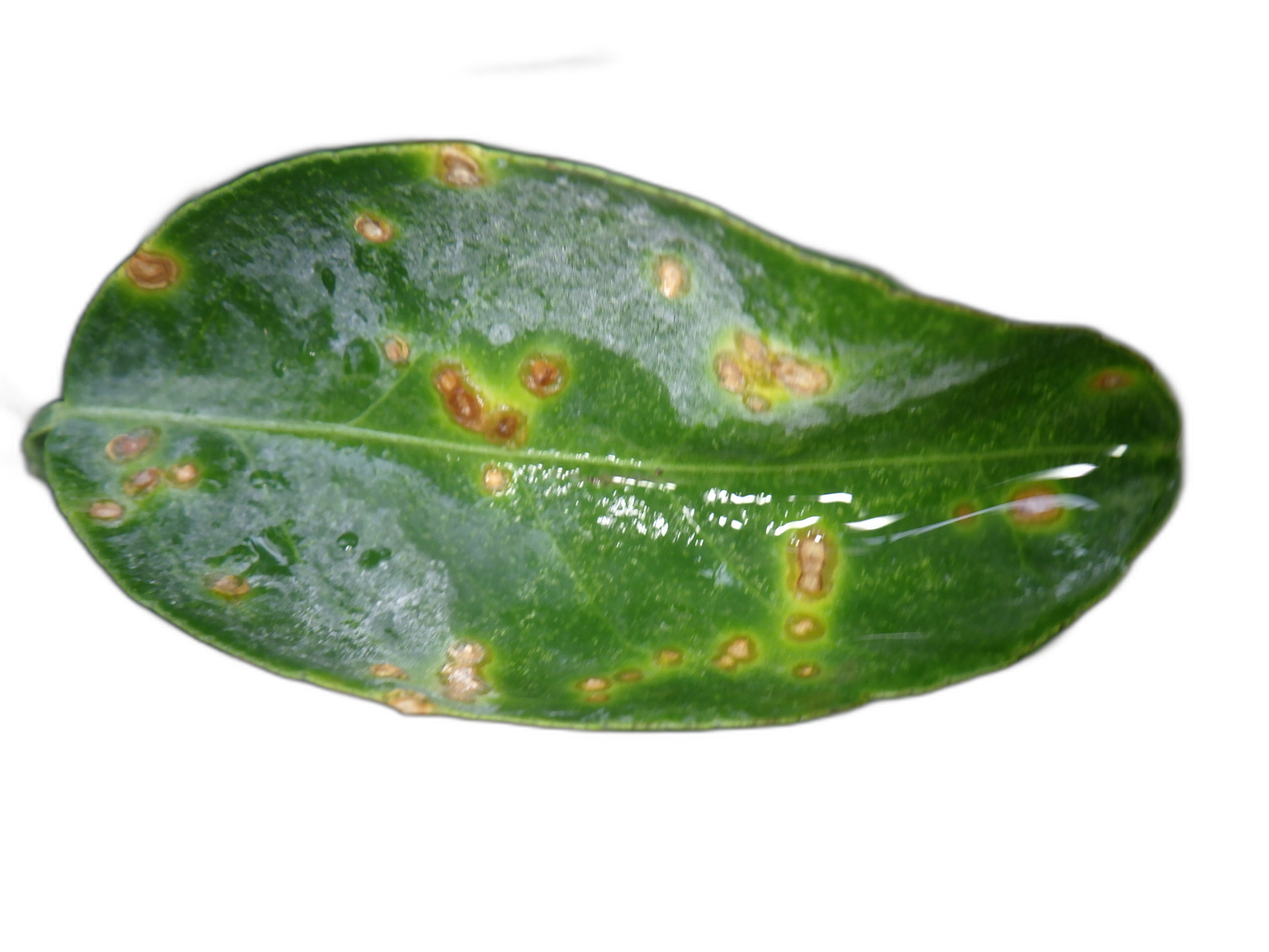Canker: (432, 363, 485, 433), (441, 640, 489, 700), (1008, 483, 1067, 523), (773, 354, 830, 394), (123, 249, 179, 289), (795, 536, 826, 595), (441, 146, 483, 187), (655, 257, 688, 301), (522, 358, 560, 396), (716, 635, 755, 669), (105, 432, 149, 460), (385, 690, 434, 715), (1087, 369, 1136, 392), (123, 467, 163, 495), (355, 214, 392, 243), (213, 574, 253, 597), (383, 335, 410, 366), (739, 335, 767, 364), (369, 662, 411, 681), (717, 363, 745, 390), (89, 501, 122, 520), (495, 412, 519, 438), (170, 464, 196, 485), (954, 500, 975, 525), (655, 648, 684, 666), (483, 467, 506, 489), (789, 616, 814, 635), (744, 395, 768, 412), (579, 677, 610, 690), (618, 669, 644, 682), (793, 664, 815, 677), (586, 690, 608, 702)
